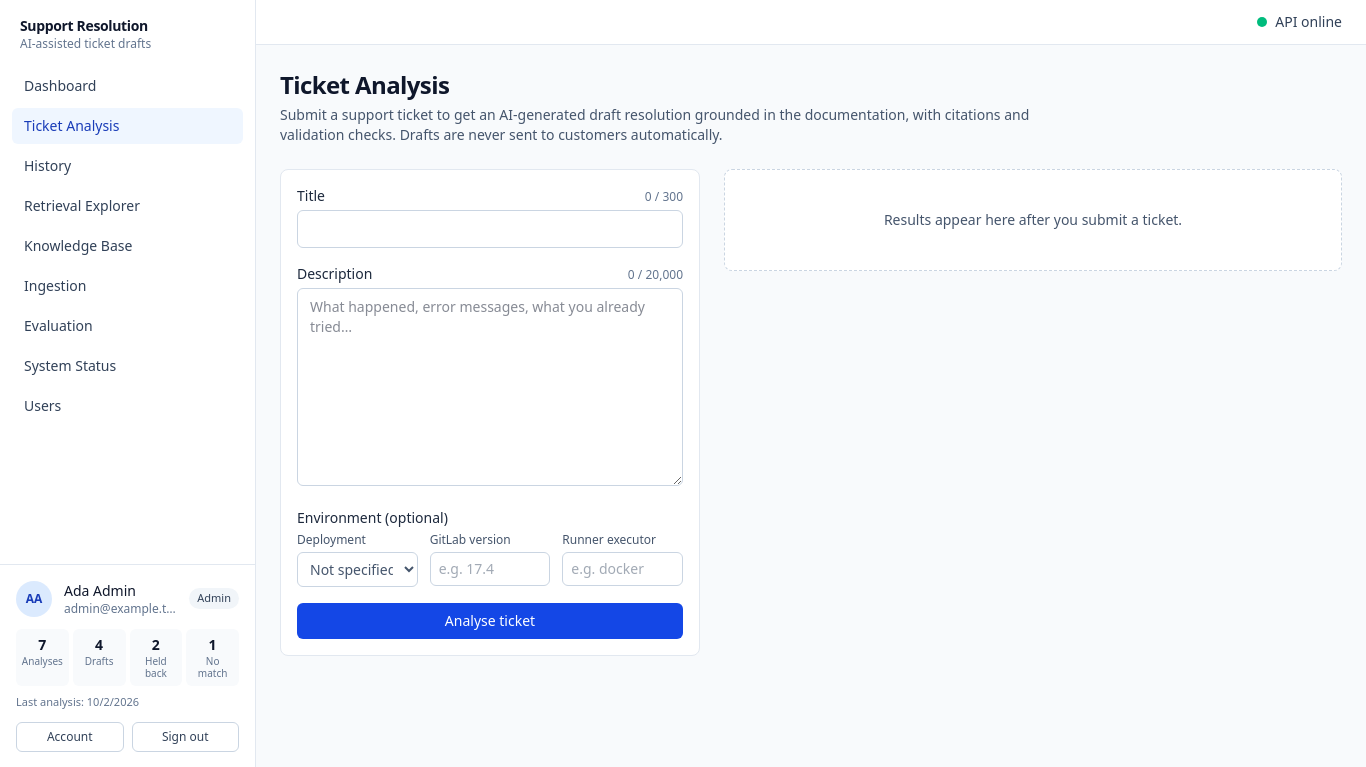
Scenario: Ticket Analysis › shows the draft label, review reasons, cited steps, and sources
The width and height of the screenshot is (1366, 767).
Type "Runner TLS error" into the field labelled "Title" at (490, 229), box [297,210,683,248]
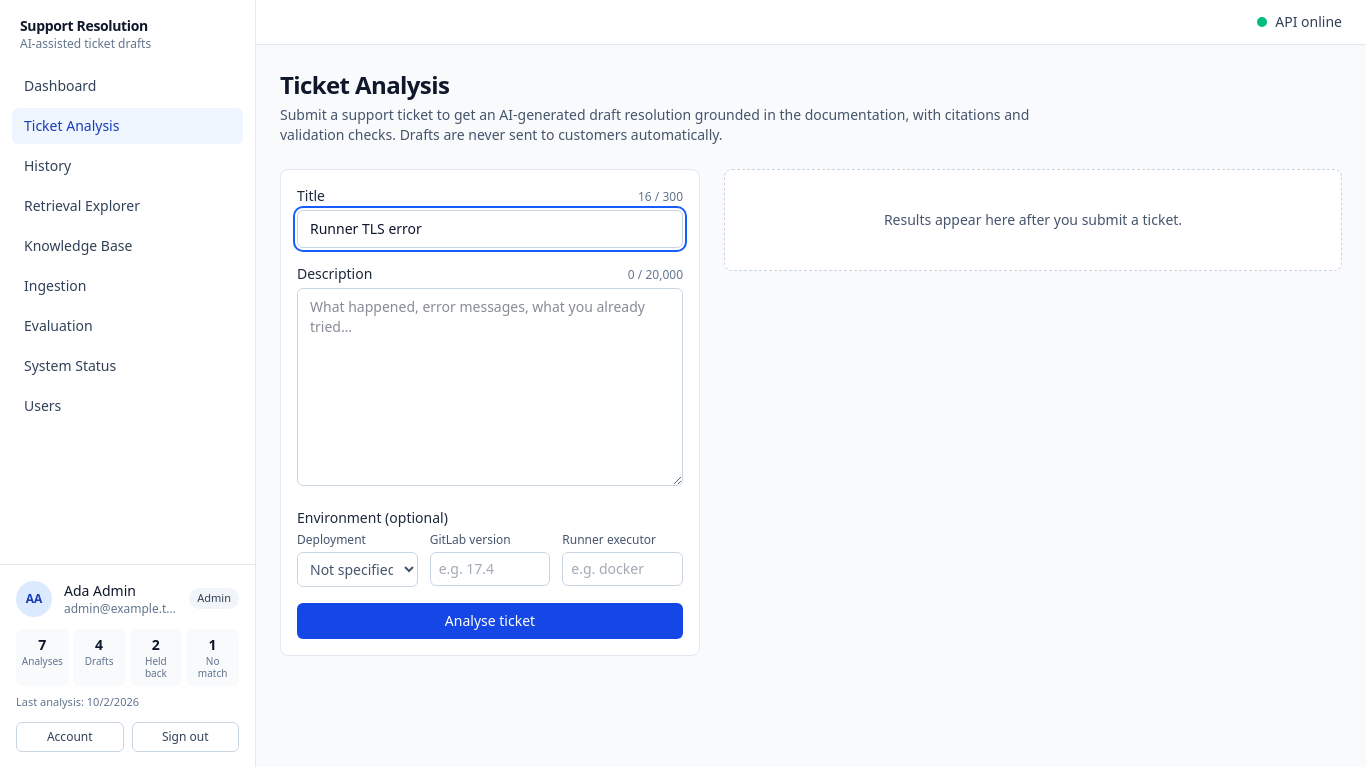
Type "x509: certificate signed by unknown authority" into the text box labelled "Description" at (490, 387), box [297,288,683,486]
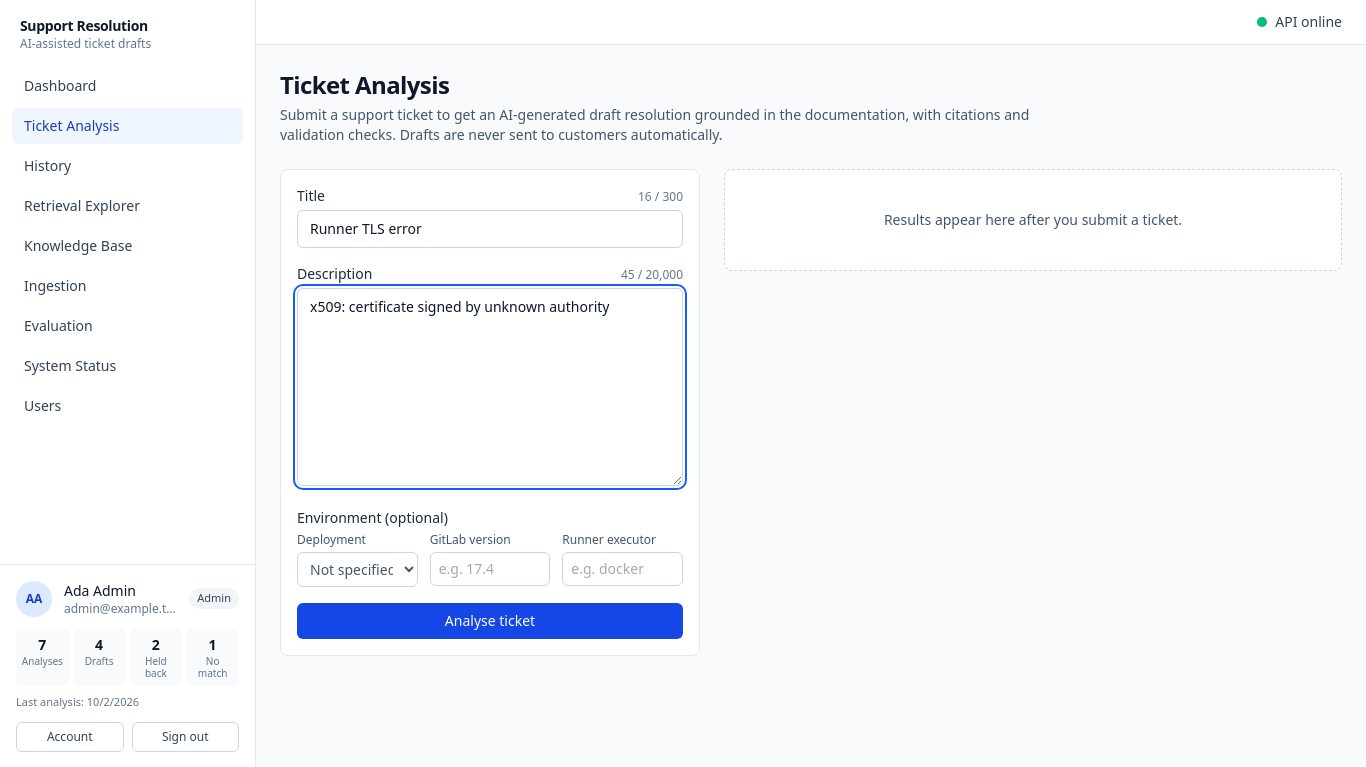
Click the button "Analyse ticket" at (490, 621), box [297,603,683,639]
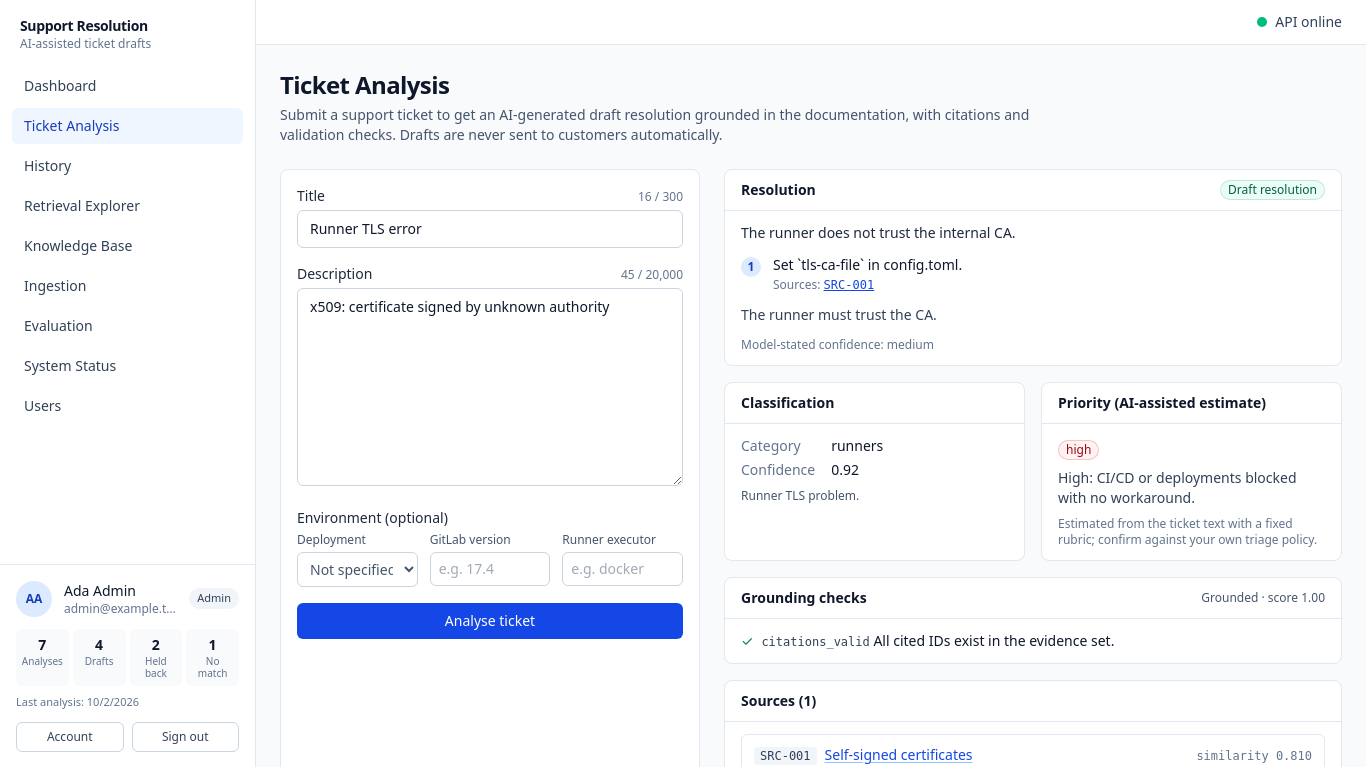
Now the text "Set `tls-ca-file` in config.toml." is shown, box [773,255,962,275]
Now the heading "Priority (AI-assisted estimate)" is shown, box [1058,393,1266,413]
